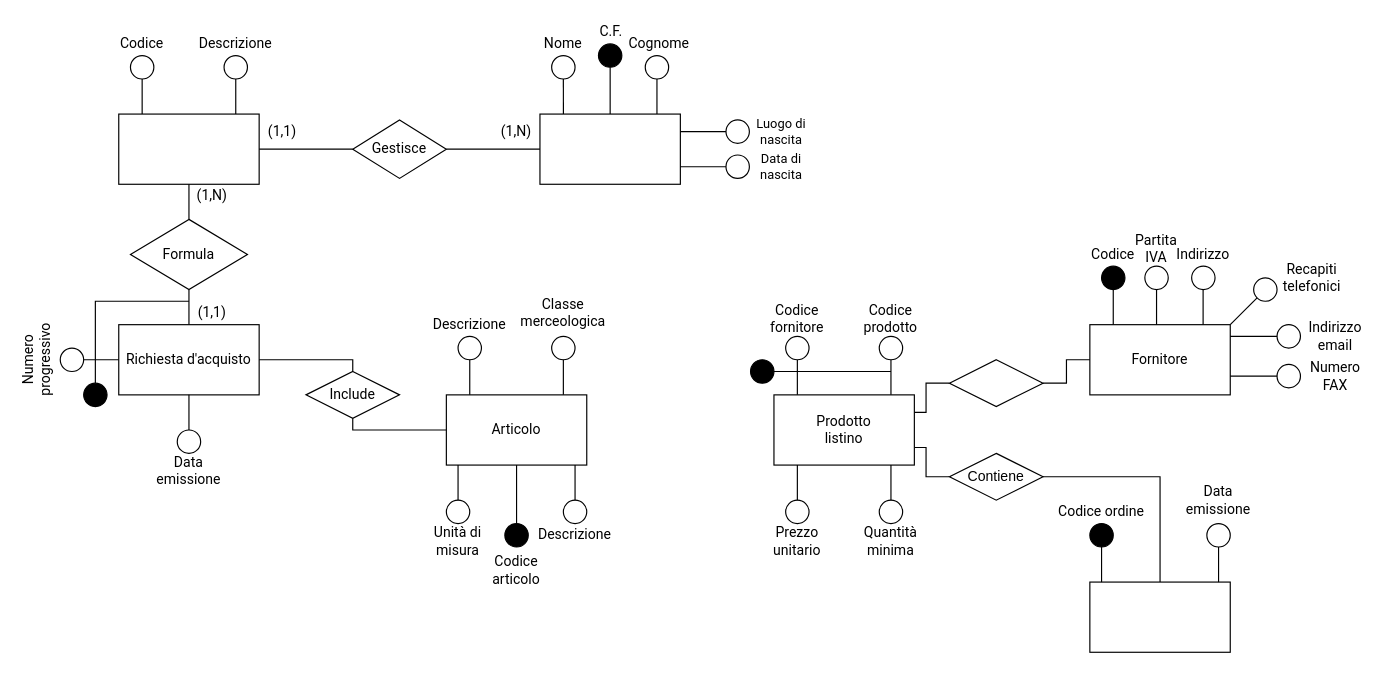
The diagram is 1382 pixels wide and 673 high, and some of its shapes have lost their labels. Each missing label, with the centre of its shape:
Dipartimento: [188,148]
Fornisce: [995,383]
Ordine: [1159,616]
Responsabile: [609,148]
